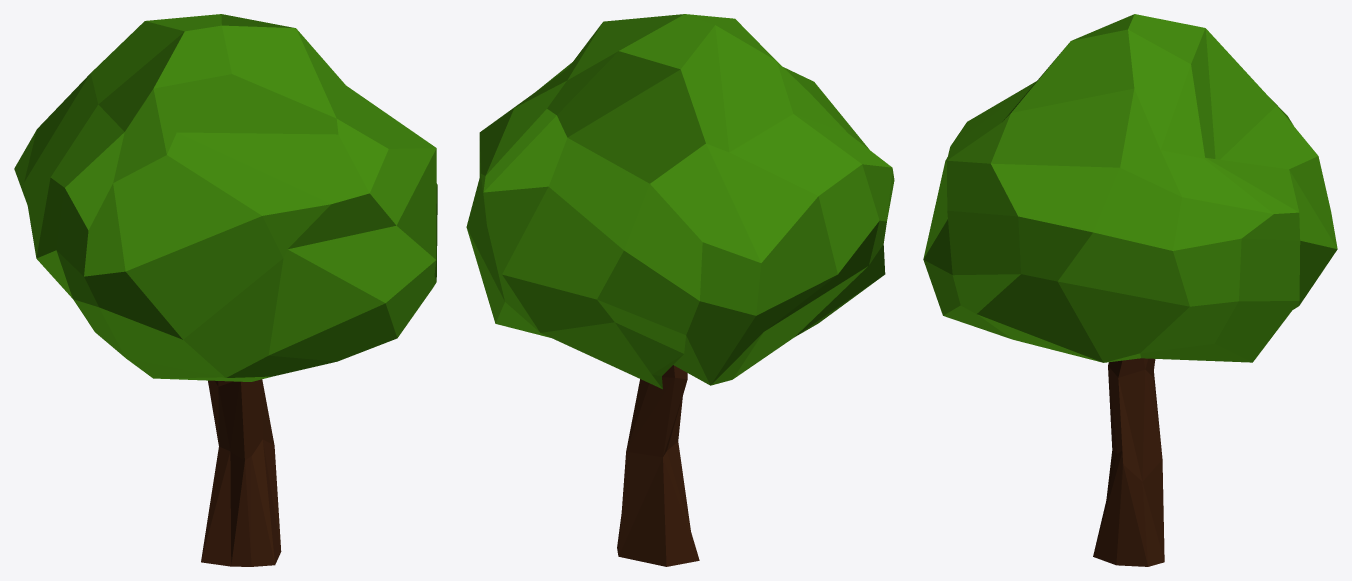
The model's file is tree big.fbx.
The picture shows the model from 3 angles, left to right: view 1: azimuth 30°, elevation 25°; view 2: azimuth 150°, elevation 25°; view 3: azimuth 270°, elevation 25°; orthographic projection. The views are drawn at different scales.
Parts seen in each view (by area): view 1: tree top, tree bottom; view 2: tree top, tree bottom; view 3: tree top, tree bottom.
Boxes of the visible parts, box(x1,y1,x2,y2) form: tree top: box(14, 14, 437, 381); tree bottom: box(201, 379, 281, 566); tree top: box(466, 14, 894, 389); tree bottom: box(617, 365, 699, 566); tree top: box(923, 14, 1337, 362); tree bottom: box(1093, 358, 1164, 566).
Size of the model in its own units: 27.13 by 38.62 by 28.38.
